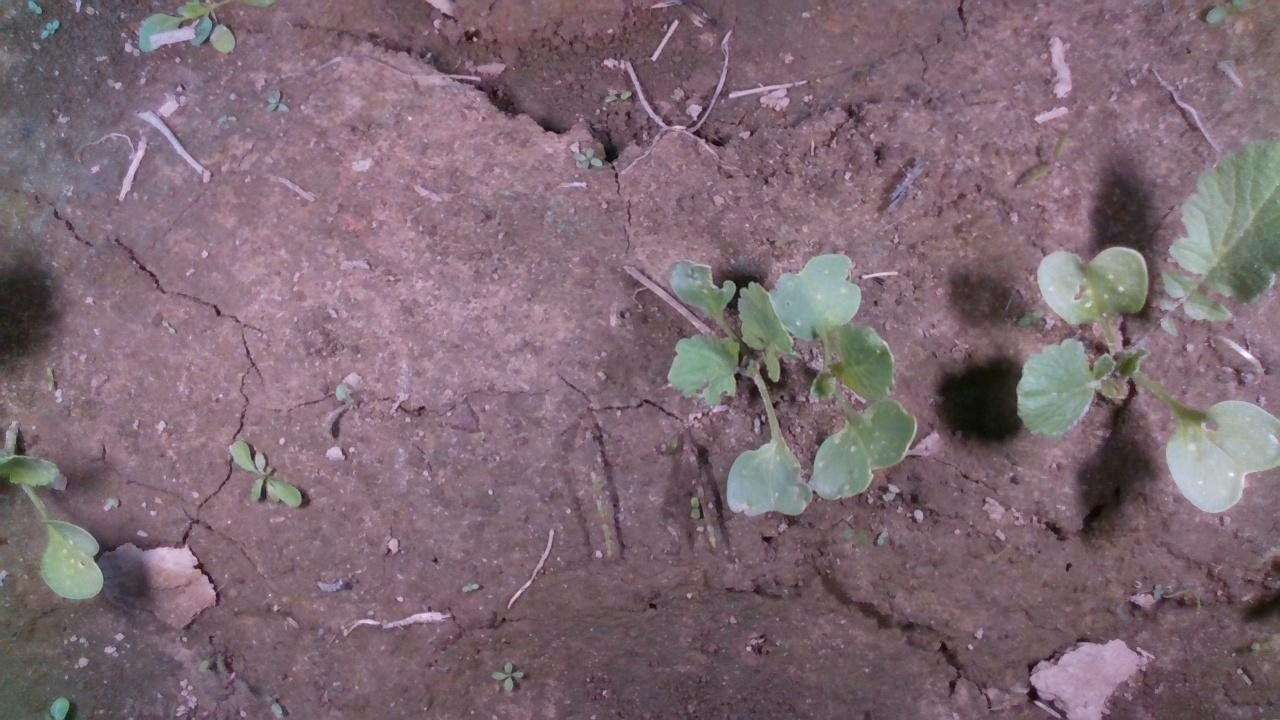weed: (225, 439, 302, 506), (489, 659, 524, 691), (569, 144, 603, 169), (263, 86, 290, 113), (38, 17, 59, 38), (158, 318, 177, 334), (43, 366, 54, 393), (689, 494, 700, 520), (460, 580, 479, 592)
